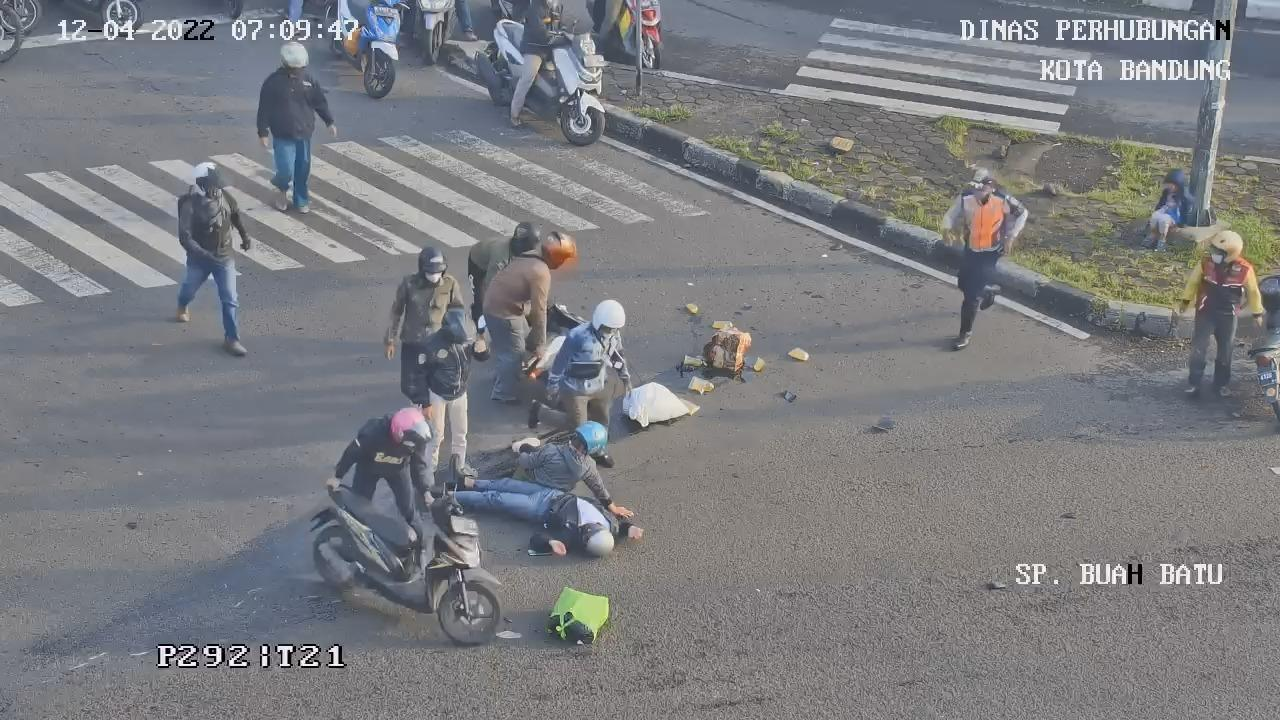accident: (429, 465, 649, 567), (506, 420, 649, 517)
